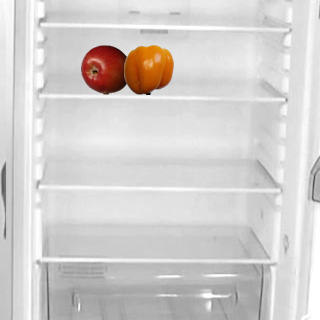Apple Braeburn: (80, 44, 130, 94)
Pepper Yellow: (123, 44, 173, 94)
